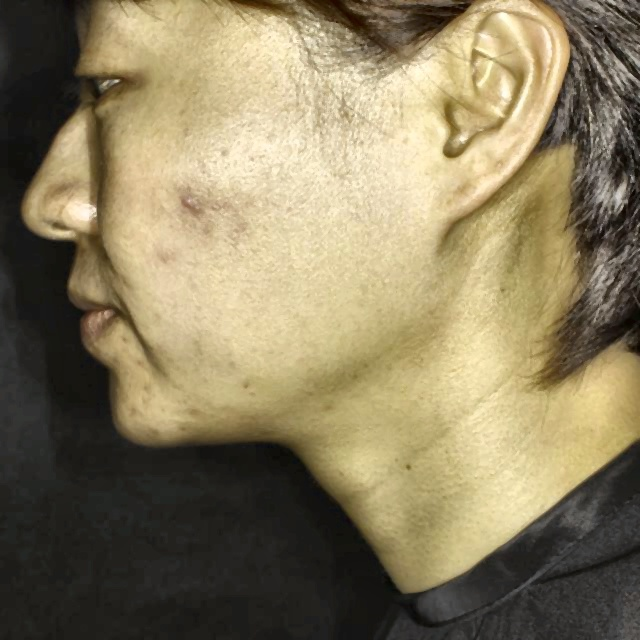comedone: (175, 185, 206, 212)
